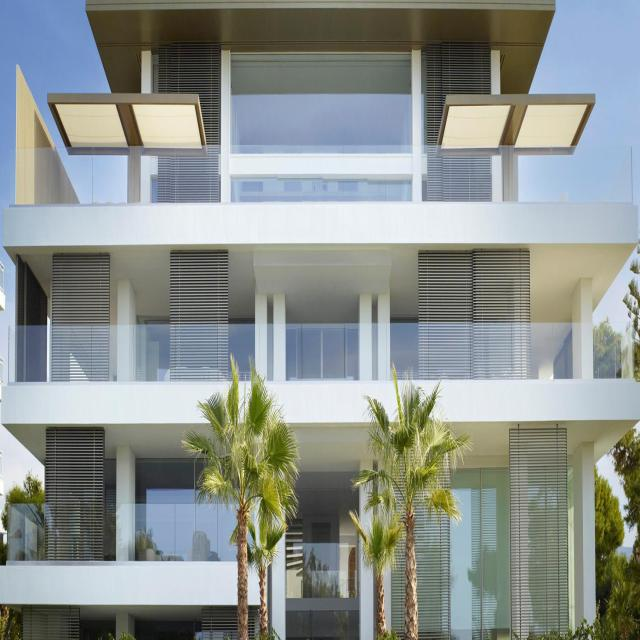Railing: (10, 147, 630, 207), (9, 327, 636, 381), (5, 501, 234, 561), (287, 545, 360, 598)
plant: (350, 362, 470, 639), (184, 355, 299, 639), (598, 427, 640, 639)
wall: (0, 0, 640, 638)
windows: (229, 56, 414, 153), (449, 464, 483, 639), (138, 456, 202, 502)
